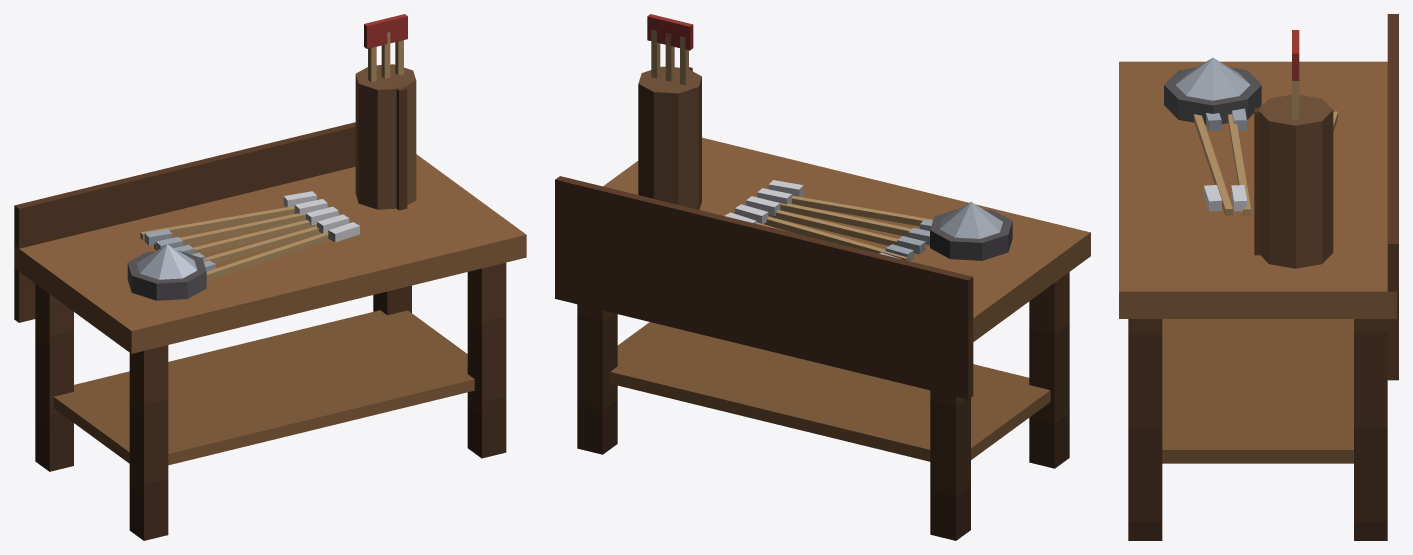
File: ammunition_workbench.glb
The picture shows the model from 3 angles, left to right: view 1: azimuth 30°, elevation 25°; view 2: azimuth 150°, elevation 25°; view 3: azimuth 270°, elevation 25°; orthographic projection. The views are drawn at different scales.
Size of the model in its own units: 1.45 by 1.38 by 0.745.
Materials: 1 (1 with a texture image).
